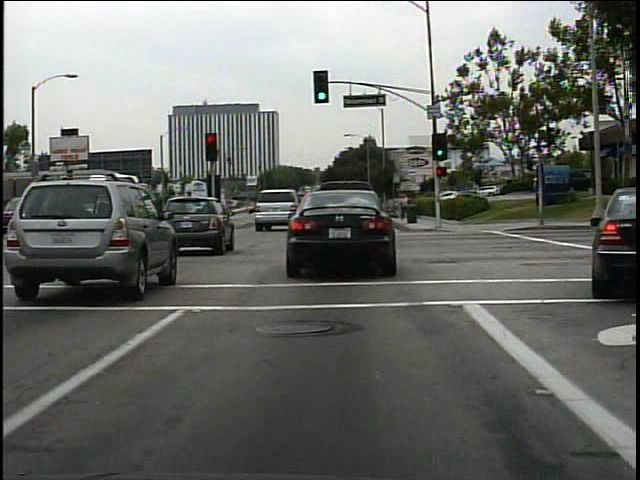person: (398, 191, 410, 222)
